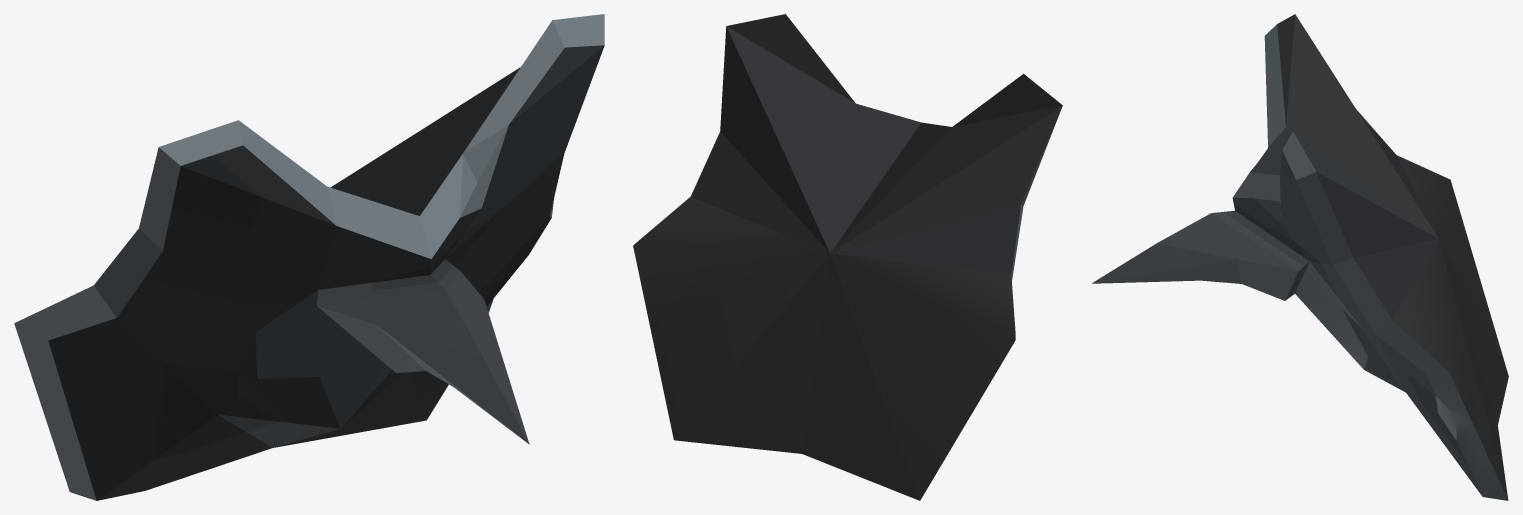
The model's file is SM_Chr_Attach_Armour_Dark_Chest_Wolf_01.fbx.
3 views of the same model, side by side, from view 1: azimuth 30°, elevation 25°; view 2: azimuth 150°, elevation 25°; view 3: azimuth 270°, elevation 25° (orthographic). The views are drawn at different scales.
Parts seen in each view (by area): view 1: SM_Chr_Attach_Armour_Dark_Chest_Wolf_01; view 2: SM_Chr_Attach_Armour_Dark_Chest_Wolf_01; view 3: SM_Chr_Attach_Armour_Dark_Chest_Wolf_01.
Part boxes in pixels (box(x1,y1,x2,y2)): SM_Chr_Attach_Armour_Dark_Chest_Wolf_01: box(14, 14, 604, 500); SM_Chr_Attach_Armour_Dark_Chest_Wolf_01: box(633, 14, 1062, 500); SM_Chr_Attach_Armour_Dark_Chest_Wolf_01: box(1092, 14, 1508, 500).
Bounding box in the file's own units: 26.04 × 23.02 × 23.7.
